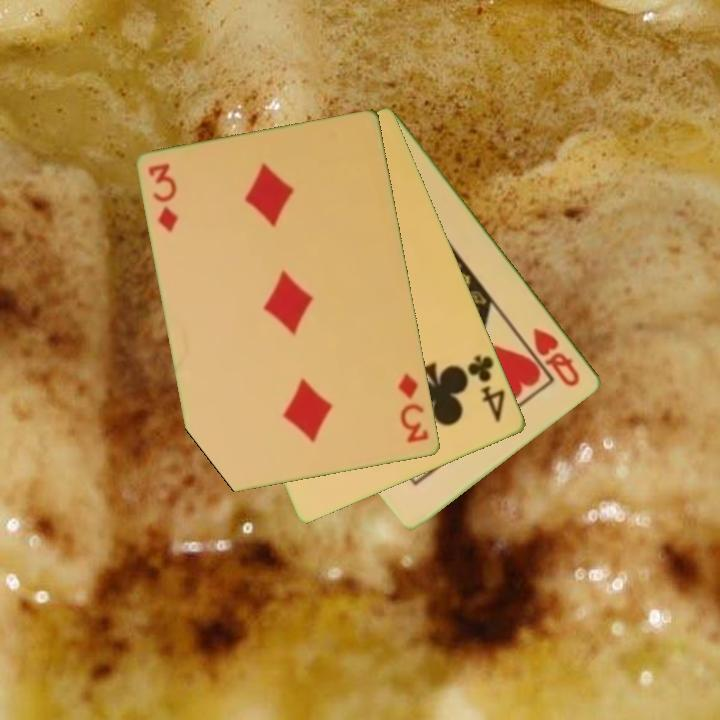3d: (395, 370, 432, 446), (145, 160, 182, 235)
4c: (464, 352, 509, 426)
Qh: (530, 324, 584, 390)
